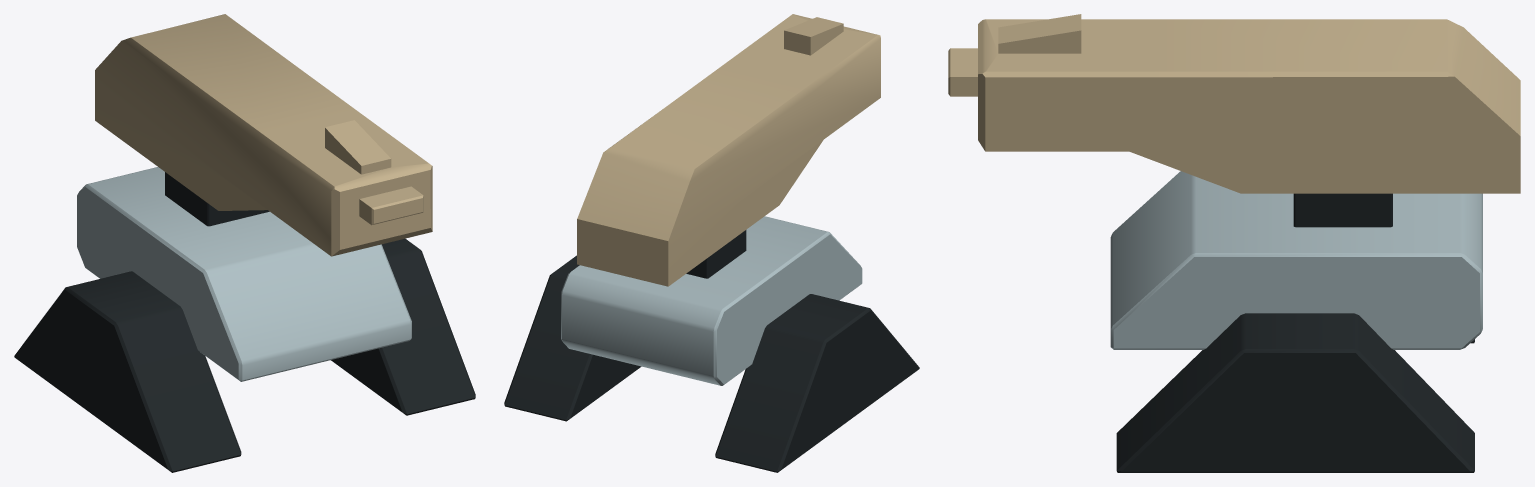
The model's file is torreta, metralla.fbx.
The picture shows the model from 3 angles, left to right: view 1: azimuth 30°, elevation 25°; view 2: azimuth 150°, elevation 25°; view 3: azimuth 270°, elevation 25°; orthographic projection. The views are drawn at different scales.
Parts seen in each view (by area): view 1: Cubo, Cubo.001; view 2: Cubo, Cubo.001; view 3: Cubo, Cubo.001.
Boxes of the visible parts, box(x1,y1,x2,y2) form: Cubo: box(14, 167, 475, 472); Cubo.001: box(95, 14, 432, 256); Cubo: box(504, 216, 919, 472); Cubo.001: box(577, 14, 880, 286); Cubo: box(1110, 171, 1482, 472); Cubo.001: box(948, 14, 1520, 193).
Size of the model in its own units: 355 by 358 by 505.
